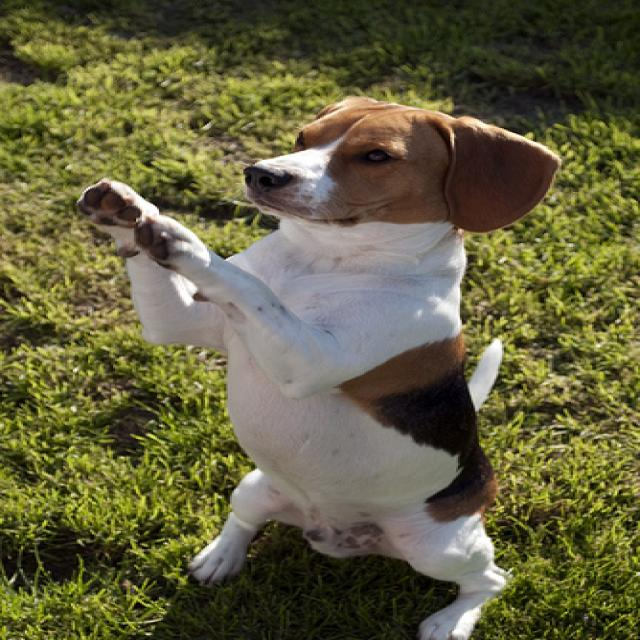dog-beagle: (52, 87, 571, 637)
